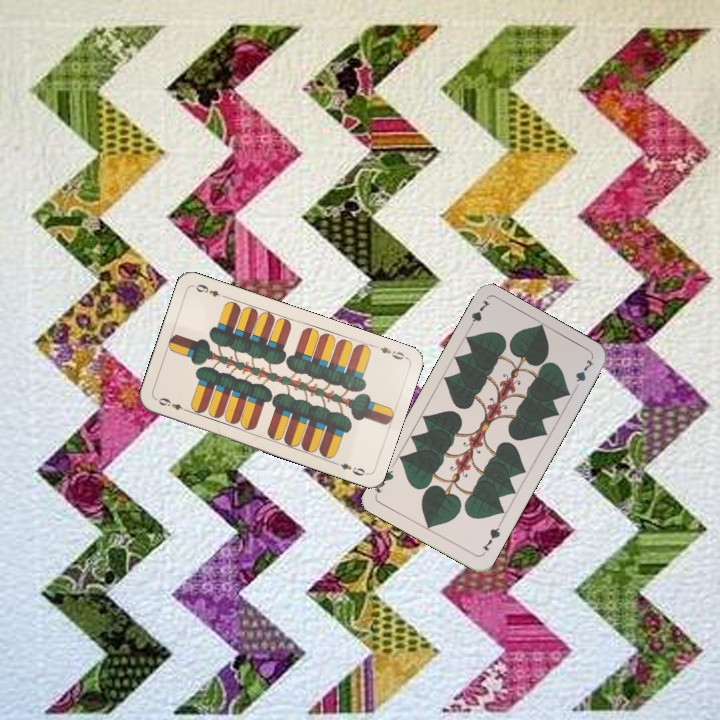E9: (370, 341, 409, 362), (154, 394, 191, 415)
G7: (464, 296, 493, 333), (477, 520, 503, 557)
